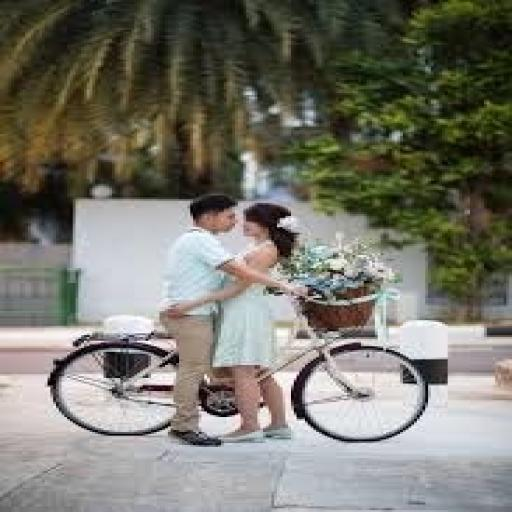cycling: (157, 192, 313, 447)
